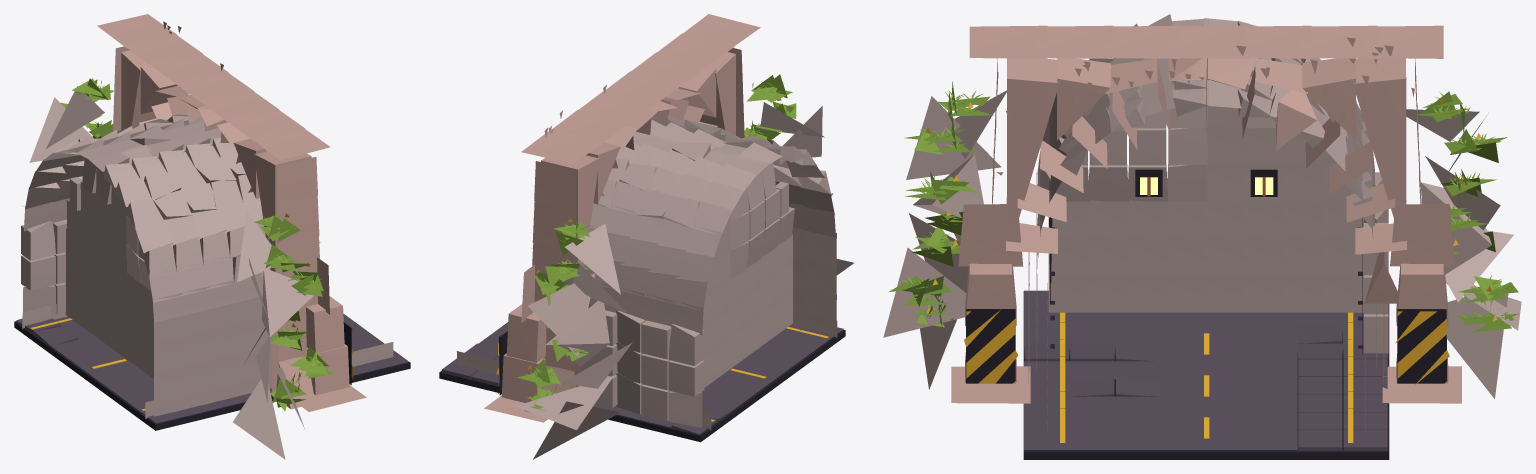
The model's file is bld.tunnel-portal.lod2.glb.
3 renders of one model, left to right at view 1: azimuth 30°, elevation 25°; view 2: azimuth 150°, elevation 25°; view 3: azimuth 270°, elevation 25°, orthographic. The views are drawn at different scales.
Visible parts, largest first — view 1: roof, body, interior, interior_end; view 2: roof, body, interior, interior_end; view 3: roof, interior, body, interior_end, lamp_L, lamp_R.
Part boxes in pixels (bbox=[...]): roof: bbox=[24, 14, 330, 322]; body: bbox=[23, 46, 366, 459]; interior: bbox=[14, 219, 410, 430]; interior_end: bbox=[65, 157, 153, 378]; roof: bbox=[521, 14, 835, 335]; body: bbox=[484, 48, 854, 459]; interior: bbox=[439, 227, 845, 442]; interior_end: bbox=[702, 162, 794, 387]; roof: bbox=[969, 14, 1443, 258]; interior: bbox=[1023, 172, 1389, 459]; body: bbox=[883, 58, 1521, 403]; interior_end: bbox=[1048, 106, 1363, 312]; lamp_L: bbox=[1135, 169, 1162, 196]; lamp_R: bbox=[1250, 169, 1277, 196].
Bounding box in the file's own units: 7.31 × 8.2 × 12.19.
